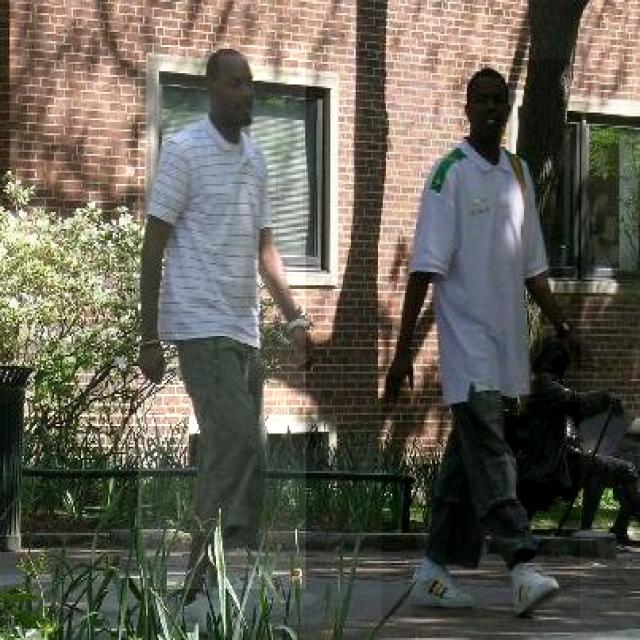with scooter: (382, 59, 580, 618), (138, 45, 306, 589)
